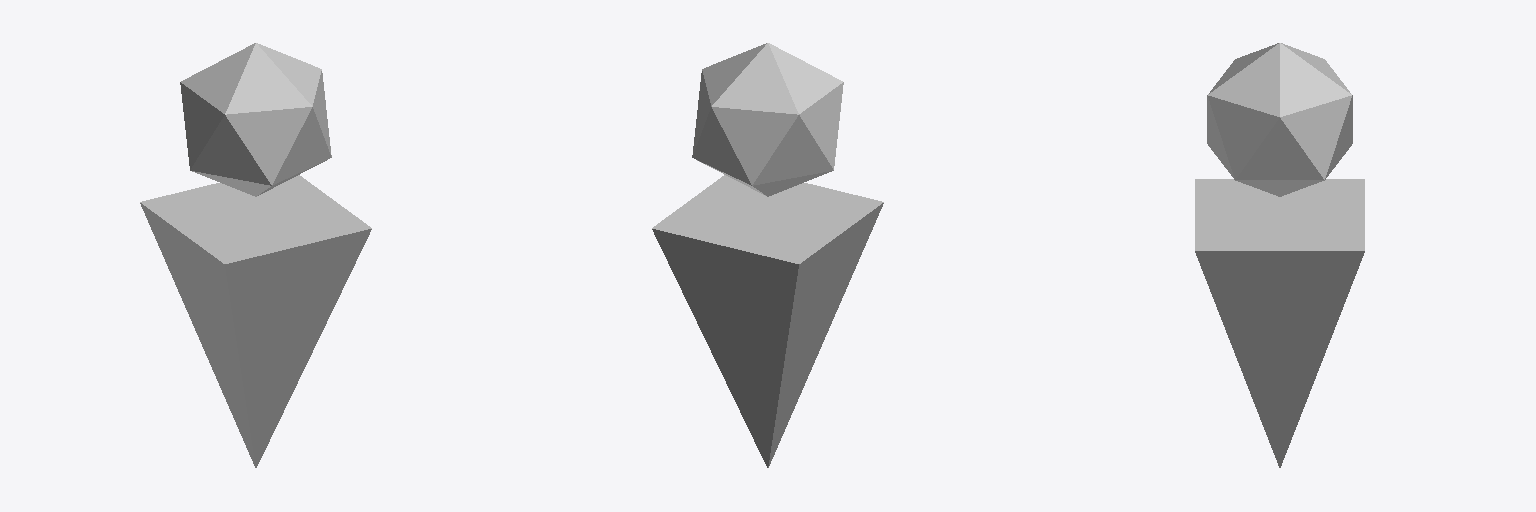
The model's file is player.obj.
The picture shows the model from 3 angles: view 1: azimuth 30°, elevation 25°; view 2: azimuth 150°, elevation 25°; view 3: azimuth 270°, elevation 25°; orthographic projection.
Parts seen in each view (by area): view 1: ICO球; view 2: ICO球; view 3: ICO球.
Boxes of the visible parts, x1,y1,x2,y2 form: ICO球: [140, 43, 371, 467]; ICO球: [652, 43, 883, 467]; ICO球: [1195, 43, 1364, 467].
Bounding box in the file's own units: 0.5 × 1.38 × 0.5.